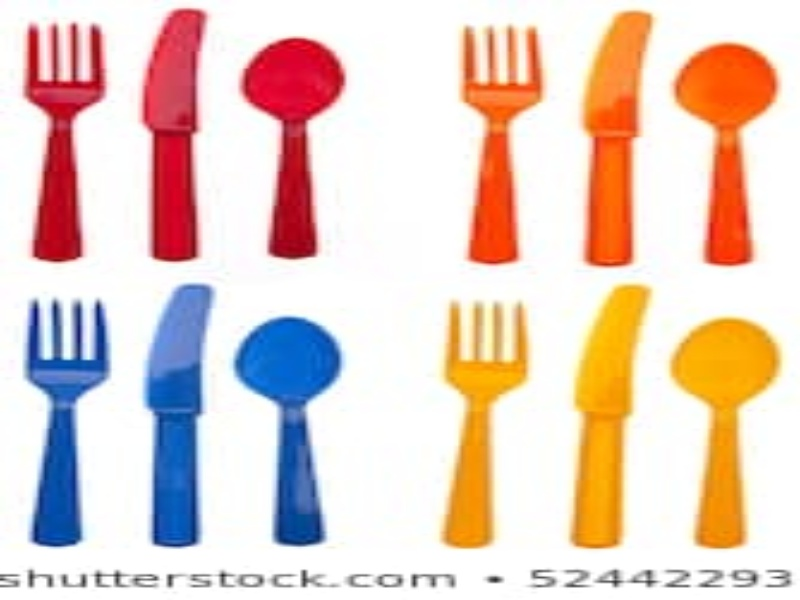plastic-silverware: (672, 317, 783, 547), (438, 299, 537, 549), (236, 314, 342, 543), (240, 34, 346, 260), (674, 41, 780, 267), (20, 297, 111, 547), (17, 19, 110, 263), (454, 22, 547, 266), (572, 284, 656, 549), (579, 8, 657, 269), (141, 1, 208, 263), (146, 288, 213, 548)
